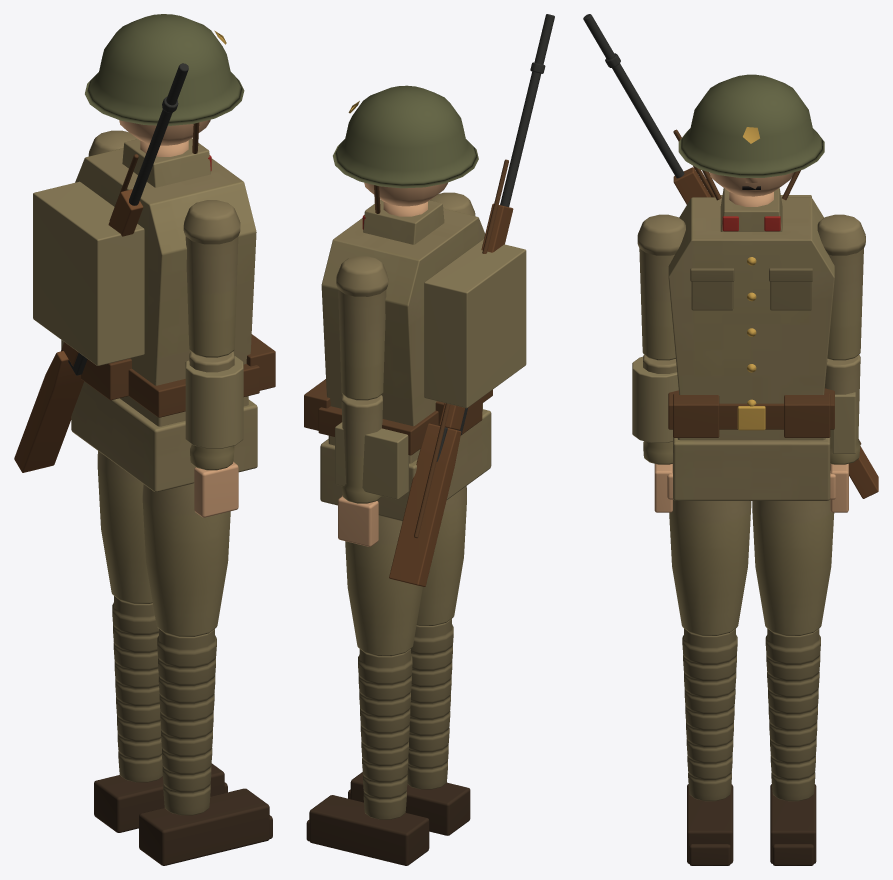
File: crew_soldier.glb
3 renders of one model, left to right at view 1: azimuth 30°, elevation 25°; view 2: azimuth 150°, elevation 25°; view 3: azimuth 270°, elevation 25°, orthographic. The views are drawn at different scales.
Parts seen in each view (by area): view 1: TorsoMesh, HeadMeshMesh, ThighRMesh, ShinRMesh, PelvisMesh, ShinLMesh, RifleMeshMesh, UpperArmRMesh, FootRMesh, ThighLMesh, FootLMesh, HandMeshRMesh (+2 smaller); view 2: TorsoMesh, HeadMeshMesh, RifleMeshMesh, ShinLMesh, ThighLMesh, ShinRMesh, UpperArmLMesh, FootLMesh, PelvisMesh, ThighRMesh, ForearmLMesh, FootRMesh (+2 smaller); view 3: TorsoMesh, HeadMeshMesh, PelvisMesh, ThighLMesh, ThighRMesh, ShinLMesh, ShinRMesh, UpperArmRMesh, UpperArmLMesh, RifleMeshMesh, FootLMesh, FootRMesh (+4 smaller).
Part boxes in pixels (box(x1,y1,x2,y2)): TorsoMesh: box(33, 138, 275, 448); HeadMeshMesh: box(85, 14, 244, 156); ThighRMesh: box(142, 483, 230, 636); ShinRMesh: box(157, 629, 216, 815); PelvisMesh: box(71, 381, 257, 492); ShinLMesh: box(112, 596, 162, 782); RifleMeshMesh: box(14, 63, 188, 472); UpperArmRMesh: box(183, 200, 240, 357); FootRMesh: box(139, 788, 272, 865); ThighLMesh: box(97, 451, 152, 603); FootLMesh: box(94, 763, 227, 832); HandMeshRMesh: box(194, 461, 238, 517); TorsoMesh: box(304, 199, 526, 499); HeadMeshMesh: box(333, 85, 478, 216); RifleMeshMesh: box(389, 14, 554, 586); ShinLMesh: box(358, 649, 412, 819); ThighLMesh: box(345, 515, 422, 656); ShinRMesh: box(407, 619, 453, 789); UpperArmLMesh: box(336, 256, 388, 400); FootLMesh: box(306, 795, 429, 865); PelvisMesh: box(320, 403, 491, 521); ThighRMesh: box(416, 486, 466, 625); ForearmLMesh: box(341, 395, 382, 503); FootRMesh: box(348, 772, 470, 835); TorsoMesh: box(632, 188, 855, 453); HeadMeshMesh: box(678, 74, 824, 206); PelvisMesh: box(673, 429, 830, 500); ThighLMesh: box(752, 500, 834, 635); ThighRMesh: box(669, 499, 751, 635); ShinLMesh: box(765, 628, 820, 801); ShinRMesh: box(682, 628, 737, 801); UpperArmRMesh: box(637, 214, 685, 360); UpperArmLMesh: box(817, 214, 865, 360); RifleMeshMesh: box(583, 14, 878, 498); FootLMesh: box(770, 784, 816, 865); FootRMesh: box(687, 784, 733, 865).
Bounding box in the file's own units: 0.405 × 1.88 × 0.6388.
12 materials, 1 textured.
